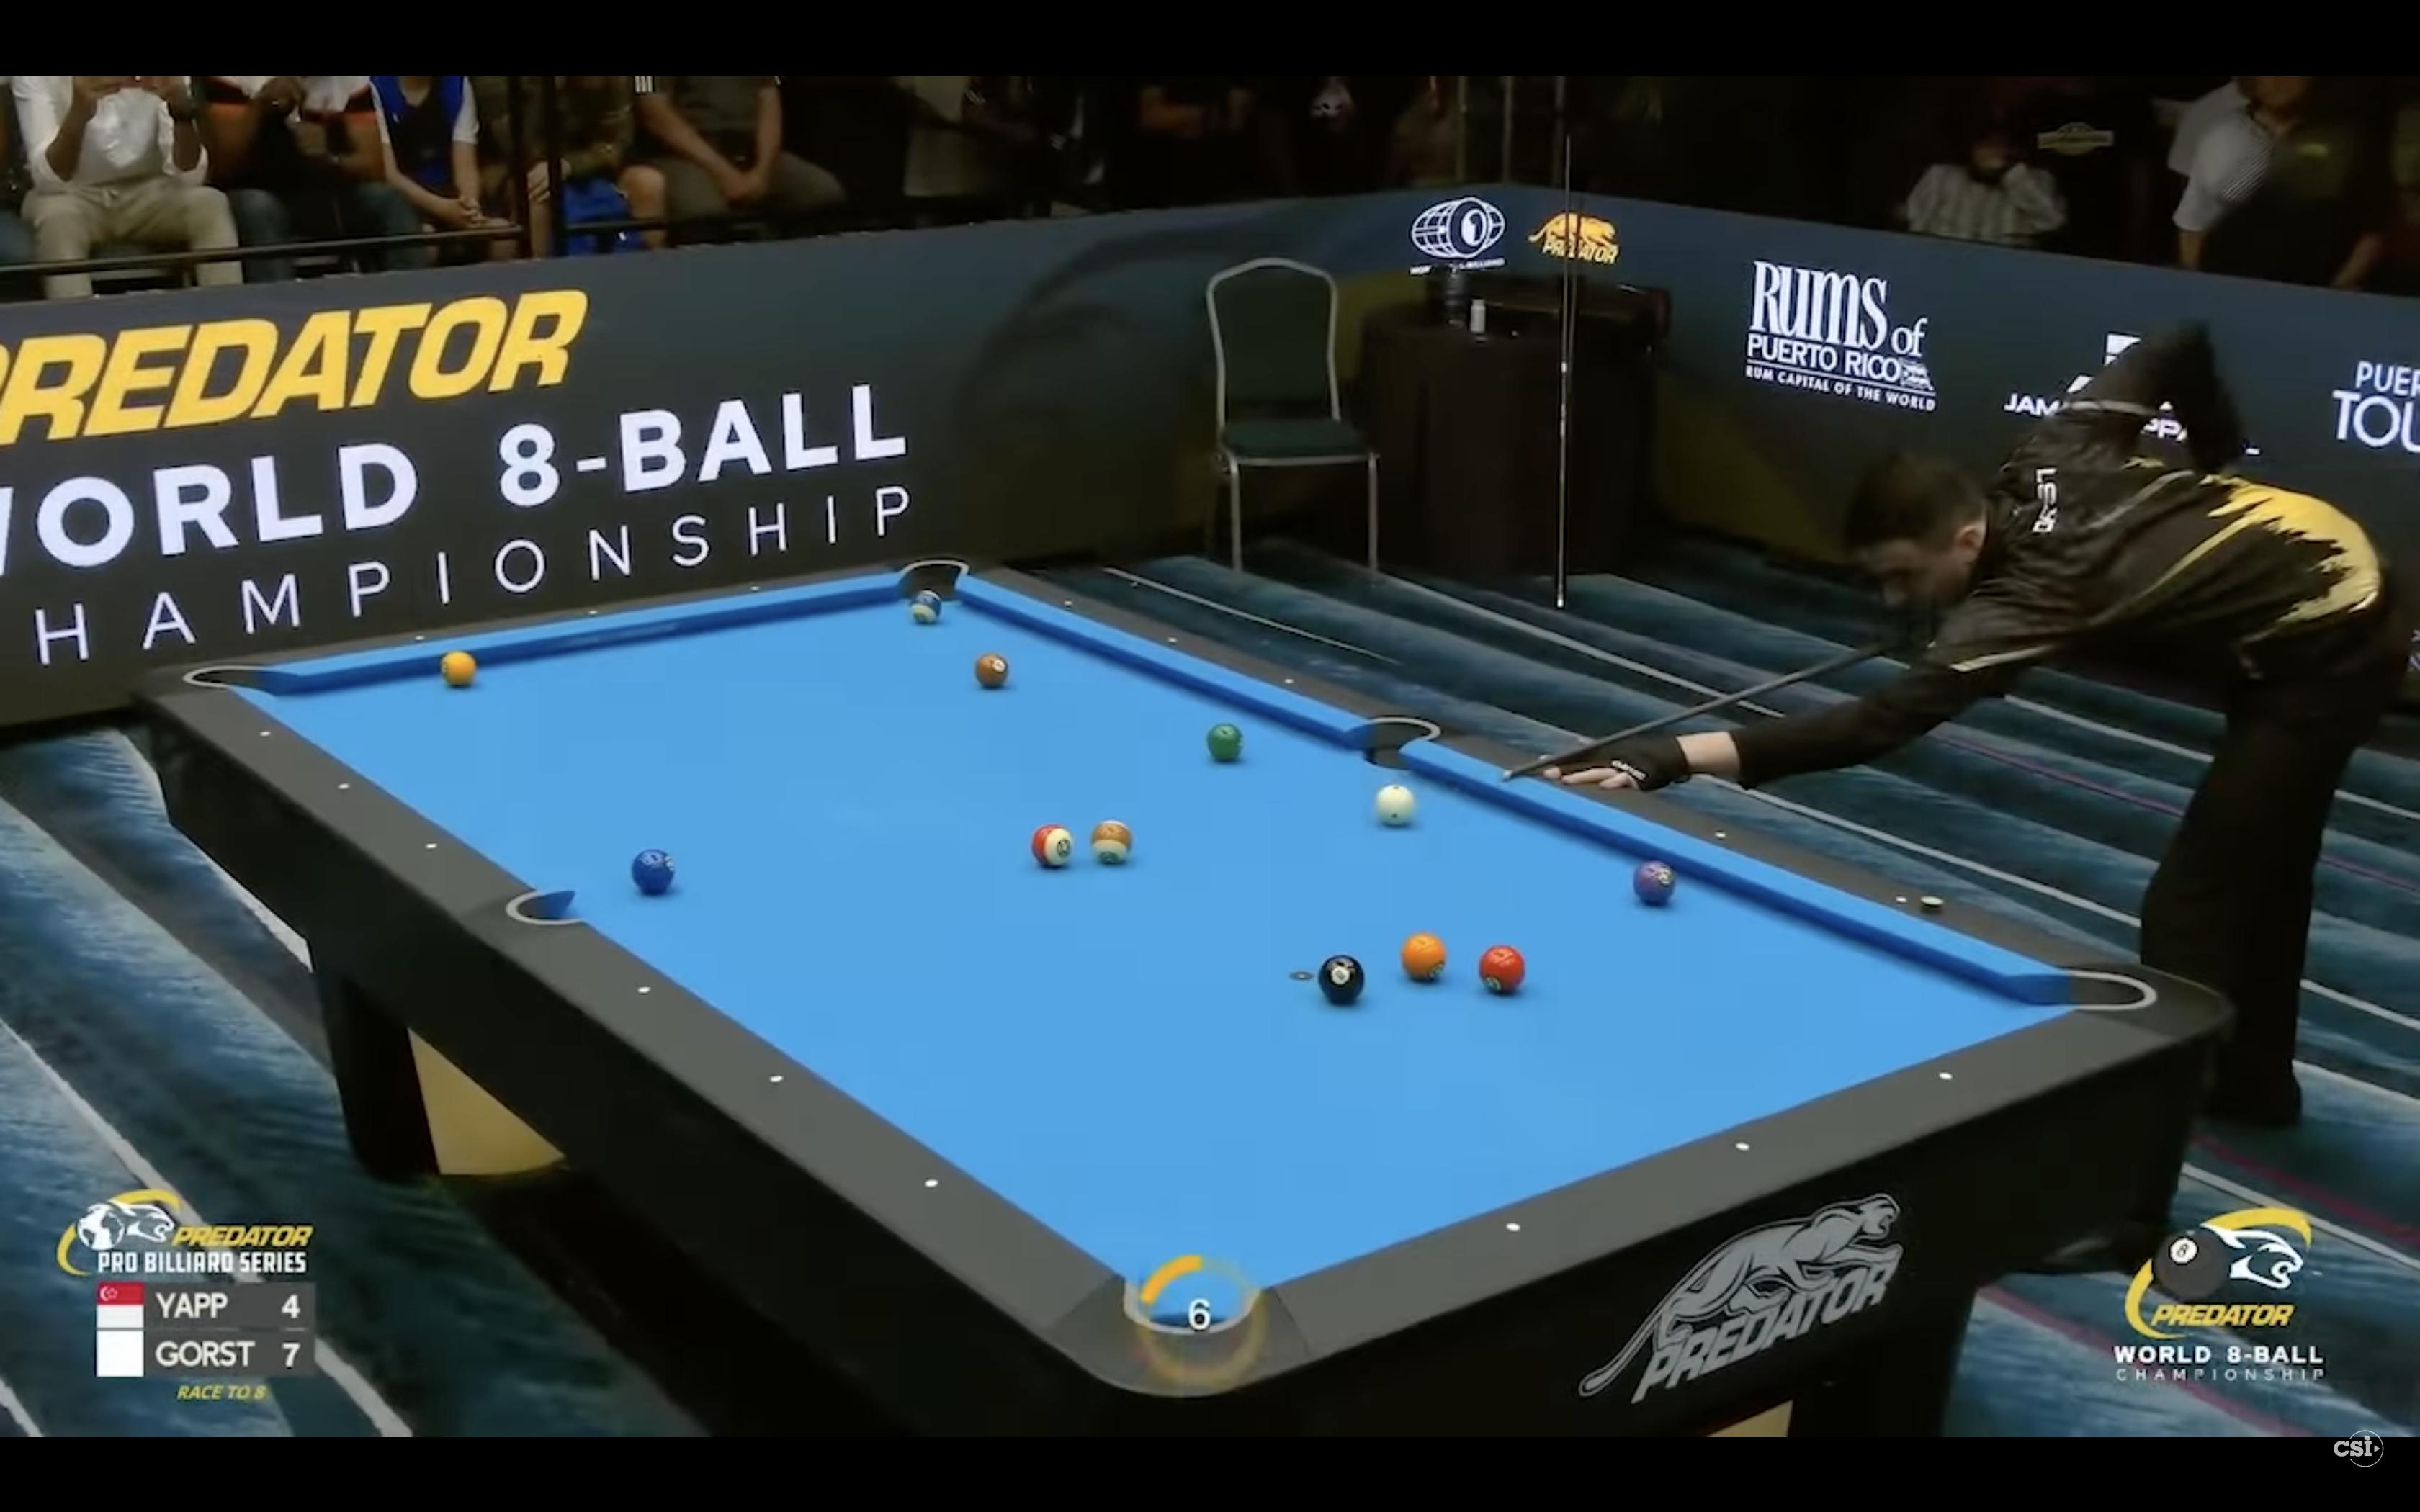Black: (1319, 955, 1366, 1005)
Cue: (1373, 782, 1416, 827)
Dot: (1937, 1070, 1955, 1082), (1735, 1141, 1751, 1153), (1505, 1223, 1521, 1233), (636, 984, 652, 995), (768, 1073, 784, 1083), (923, 1178, 939, 1188), (1894, 894, 1908, 904), (1714, 829, 1727, 840), (336, 782, 350, 791), (425, 841, 439, 850), (1167, 636, 1180, 645), (587, 608, 599, 617), (1284, 678, 1294, 686), (749, 585, 761, 592), (260, 730, 272, 737), (415, 634, 425, 641), (1065, 599, 1073, 606)
Solid: (1477, 944, 1528, 993), (1401, 932, 1448, 982), (631, 848, 678, 897), (1631, 861, 1676, 904), (437, 648, 479, 686), (1207, 723, 1246, 763), (976, 653, 1009, 688)
Striped: (1031, 822, 1075, 866), (1091, 819, 1132, 864), (908, 587, 943, 625)
